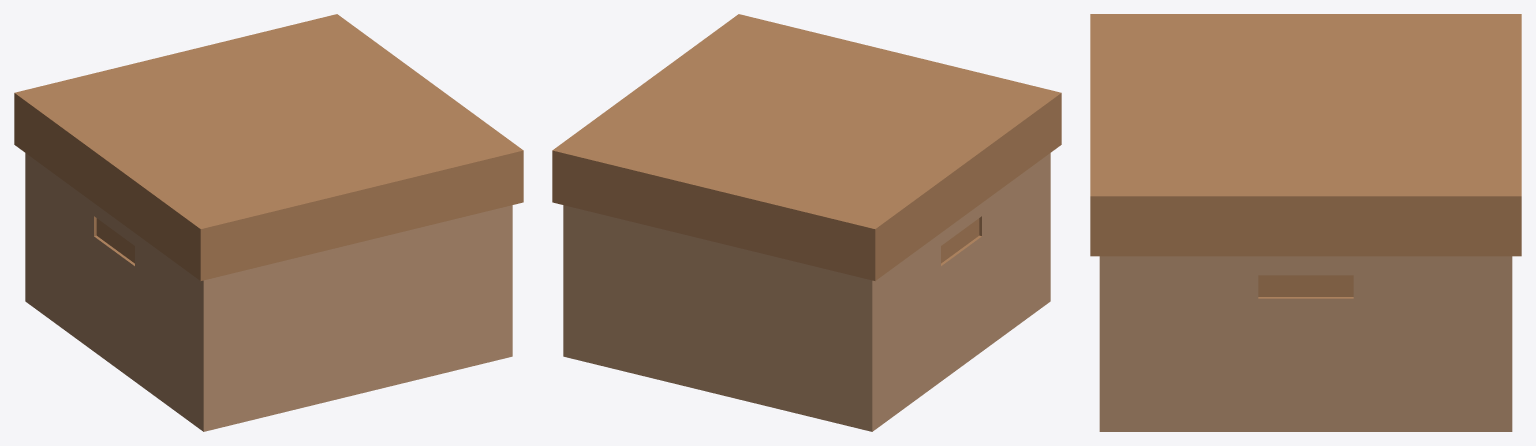
The model's file is SM_Props_Box_04.fbx.
3 renders of one model, left to right at view 1: azimuth 30°, elevation 25°; view 2: azimuth 150°, elevation 25°; view 3: azimuth 270°, elevation 25°, orthographic. The views are drawn at different scales.
Parts seen in each view (by area): view 1: SM_Props_Box_04; view 2: SM_Props_Box_04; view 3: SM_Props_Box_04.
Part boxes in pixels (box(x1,y1,x2,y2)): SM_Props_Box_04: box(14, 14, 523, 431); SM_Props_Box_04: box(552, 14, 1061, 431); SM_Props_Box_04: box(1090, 14, 1521, 431).
Bounding box in the file's own units: 0.3379 × 0.2073 × 0.3379.
